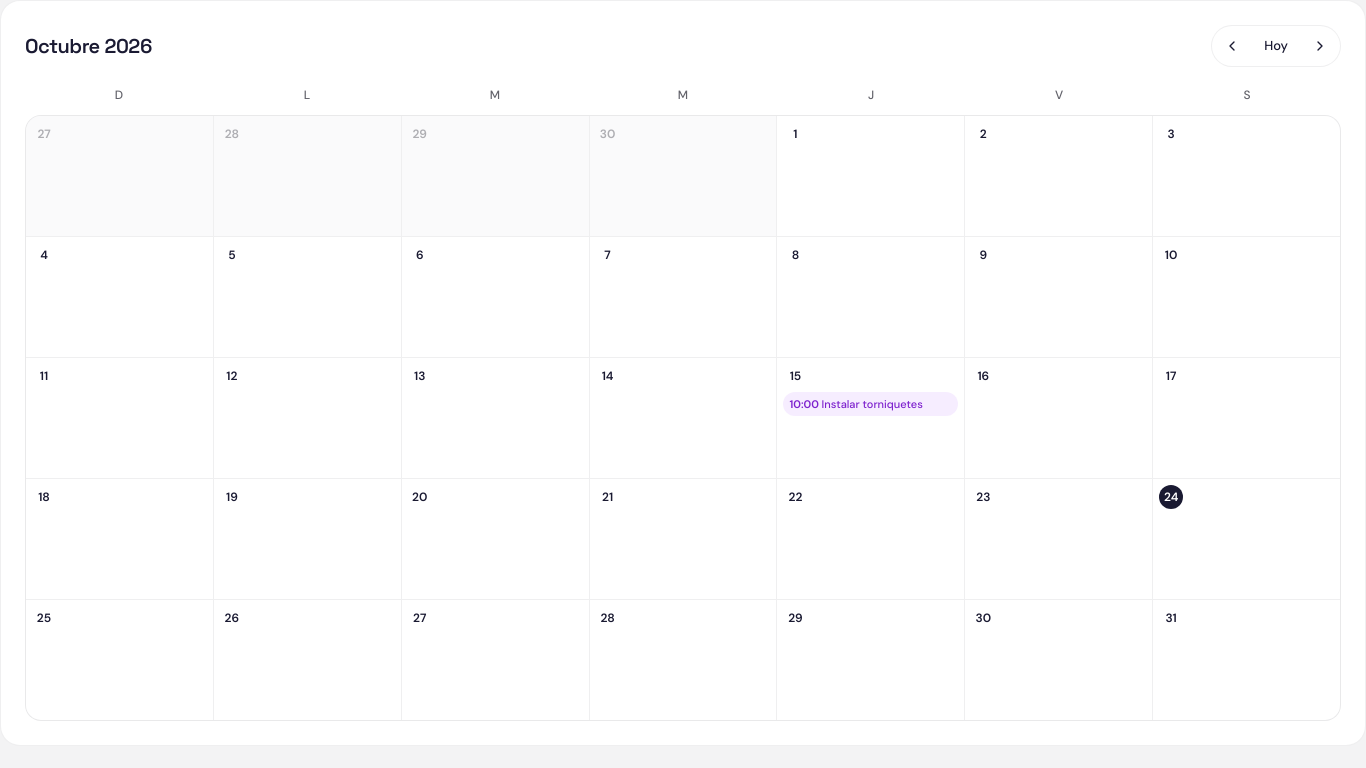
Test: TeamCalendar › una junta (categoría sin seguimiento) no muestra franja ni botón de estado
This screenshot has width=1366, height=768.
Click the button "15 10:00 Instalar torniquetes" at (871,418), box top-left (777, 358), bottom-right (964, 478)
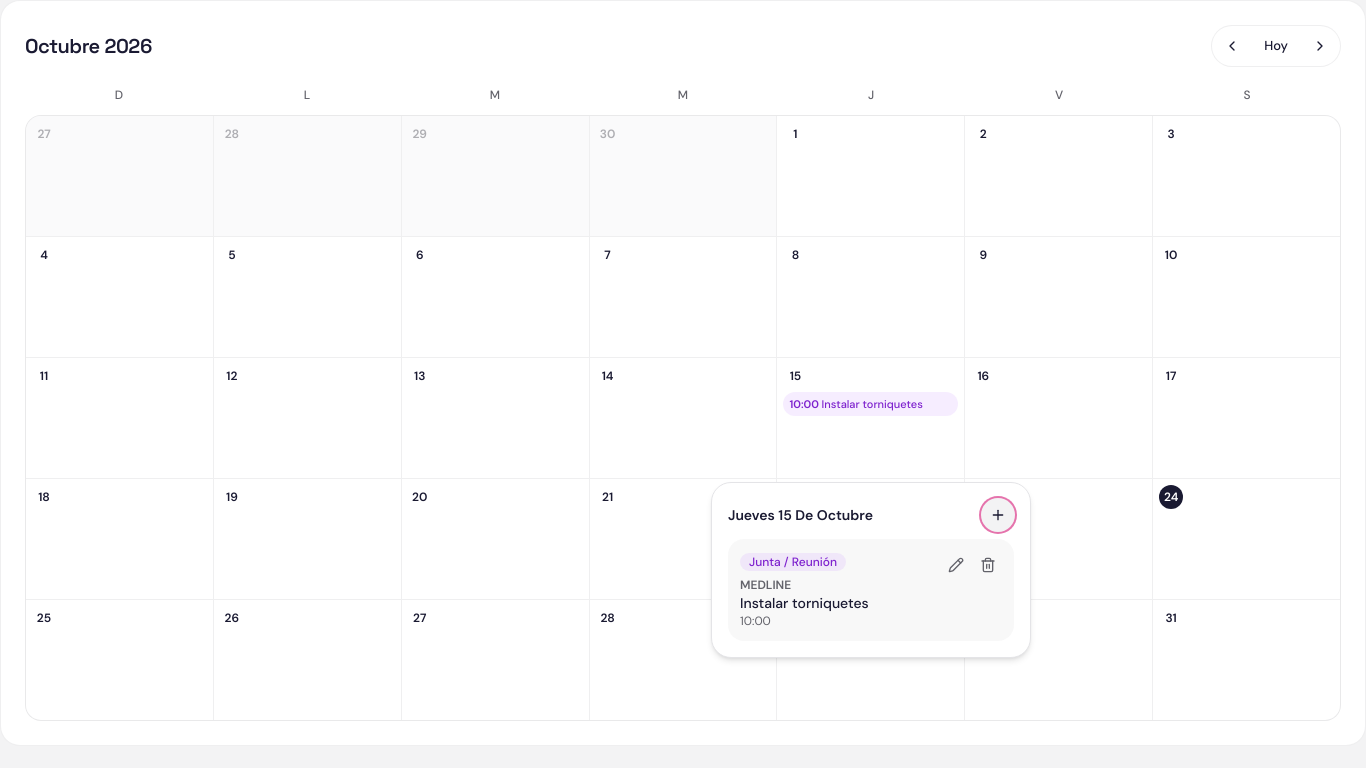
Expected: the text "Junta / Reunión" is shown, top-left (740, 553), bottom-right (846, 571)
